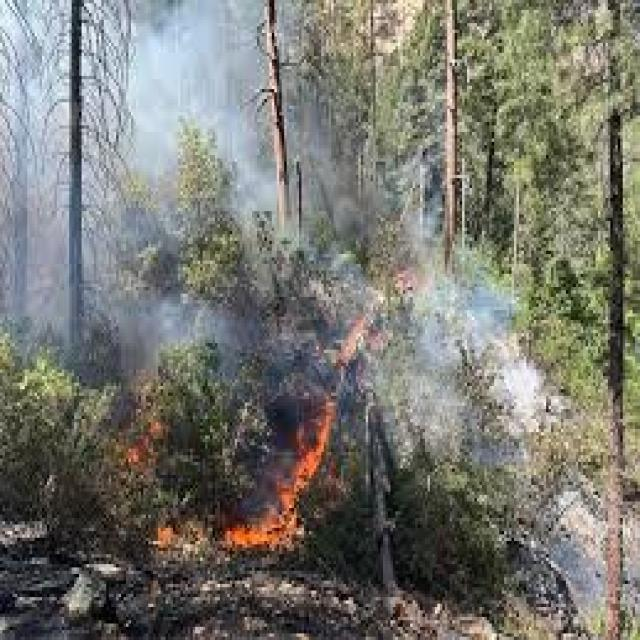Fire: (224, 404, 336, 561), (323, 310, 376, 424), (156, 497, 208, 559), (128, 390, 166, 472)
Smoke: (385, 235, 512, 398), (2, 56, 60, 330), (143, 5, 259, 134), (94, 294, 250, 345)
